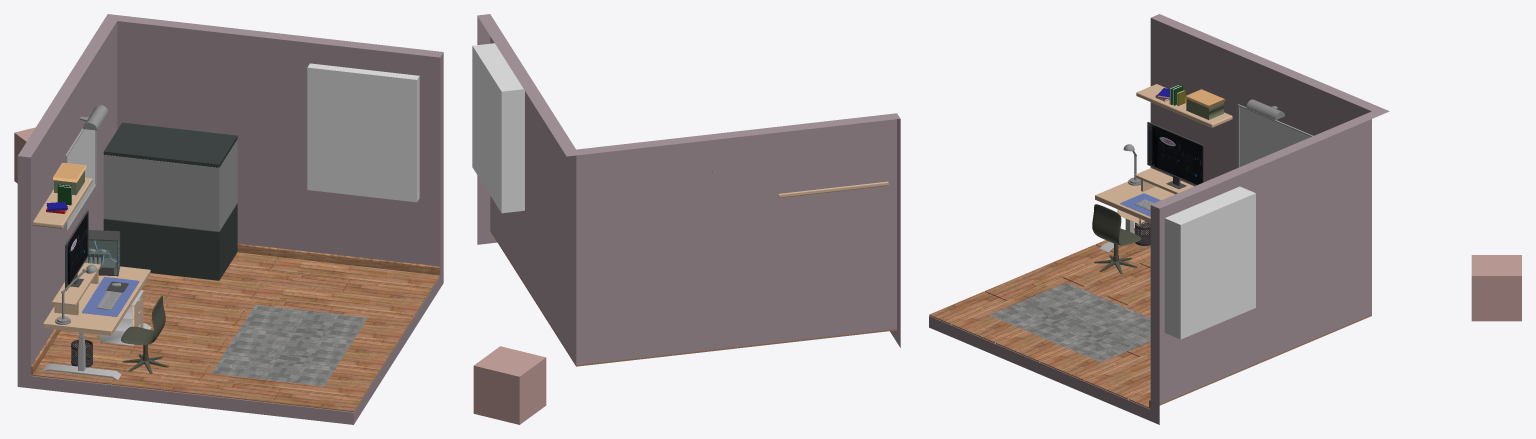
File: threeJSroom(2.0.5).glb
3 renders of one model, left to right at view 1: azimuth 30°, elevation 25°; view 2: azimuth 150°, elevation 25°; view 3: azimuth 270°, elevation 25°, orthographic. The views are drawn at different scales.
Visible parts, largest first — view 1: floor, aquarium, window.002, table, computer, Shelves, Light, screen, chair, trashbin, Cube; view 2: floor, window.002, Cube, Shelves; view 3: floor, window.002, Cube, Light, screen, table, Shelves, chair, trashbin, computer.
Part boxes in pixels (x1,y1,x2,y2): floor: [17, 14, 443, 424]; aquarium: [103, 122, 237, 280]; window.002: [307, 63, 419, 202]; table: [42, 262, 151, 379]; computer: [55, 230, 139, 324]; Shelves: [33, 163, 92, 228]; Light: [65, 105, 108, 231]; screen: [65, 210, 88, 290]; chair: [121, 295, 165, 344]; trashbin: [71, 339, 168, 373]; Cube: [14, 127, 35, 183]; floor: [477, 14, 900, 366]; window.002: [472, 43, 524, 213]; Cube: [473, 346, 546, 424]; Shelves: [778, 181, 888, 197]; floor: [929, 14, 1389, 424]; window.002: [1164, 186, 1255, 339]; Cube: [1471, 255, 1521, 321]; Light: [1237, 99, 1312, 167]; screen: [1147, 122, 1204, 189]; table: [1095, 168, 1193, 251]; Shelves: [1136, 84, 1232, 127]; chair: [1092, 204, 1141, 245]; trashbin: [1094, 221, 1150, 273]; computer: [1120, 144, 1215, 216].
Size of the model in its own units: 18.41 by 9.53 by 23.67.
43 materials, 4 textured.
